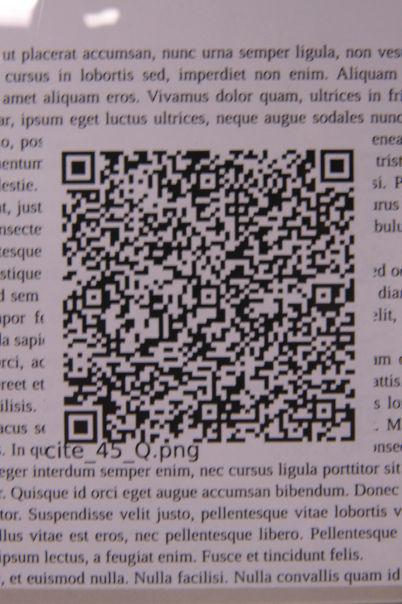Finder pattern: (55, 403, 106, 450), (57, 146, 99, 189), (317, 148, 358, 183)
